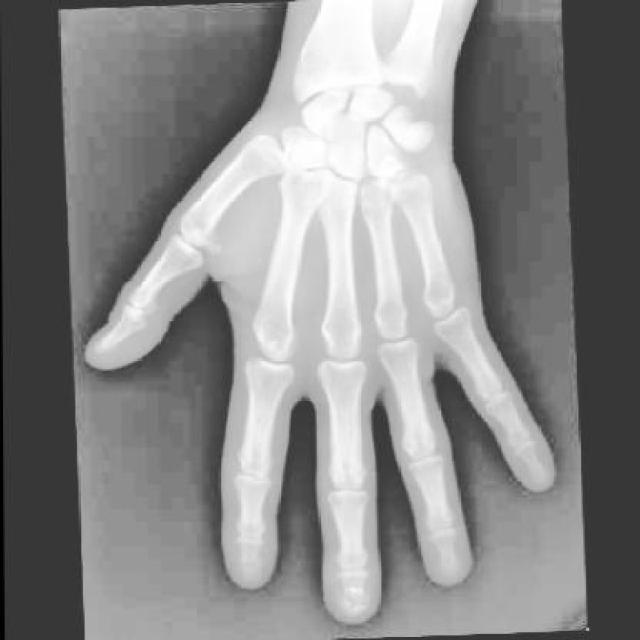Fracture: (334, 585, 376, 627)
